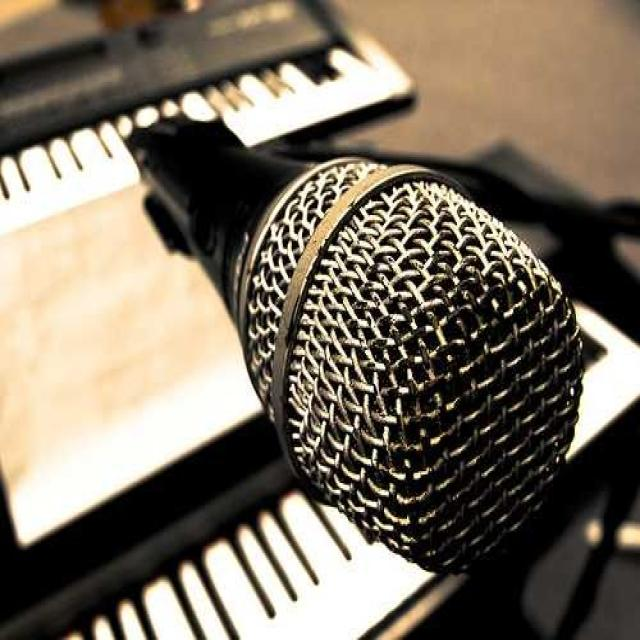microphone: (125, 94, 599, 560)
